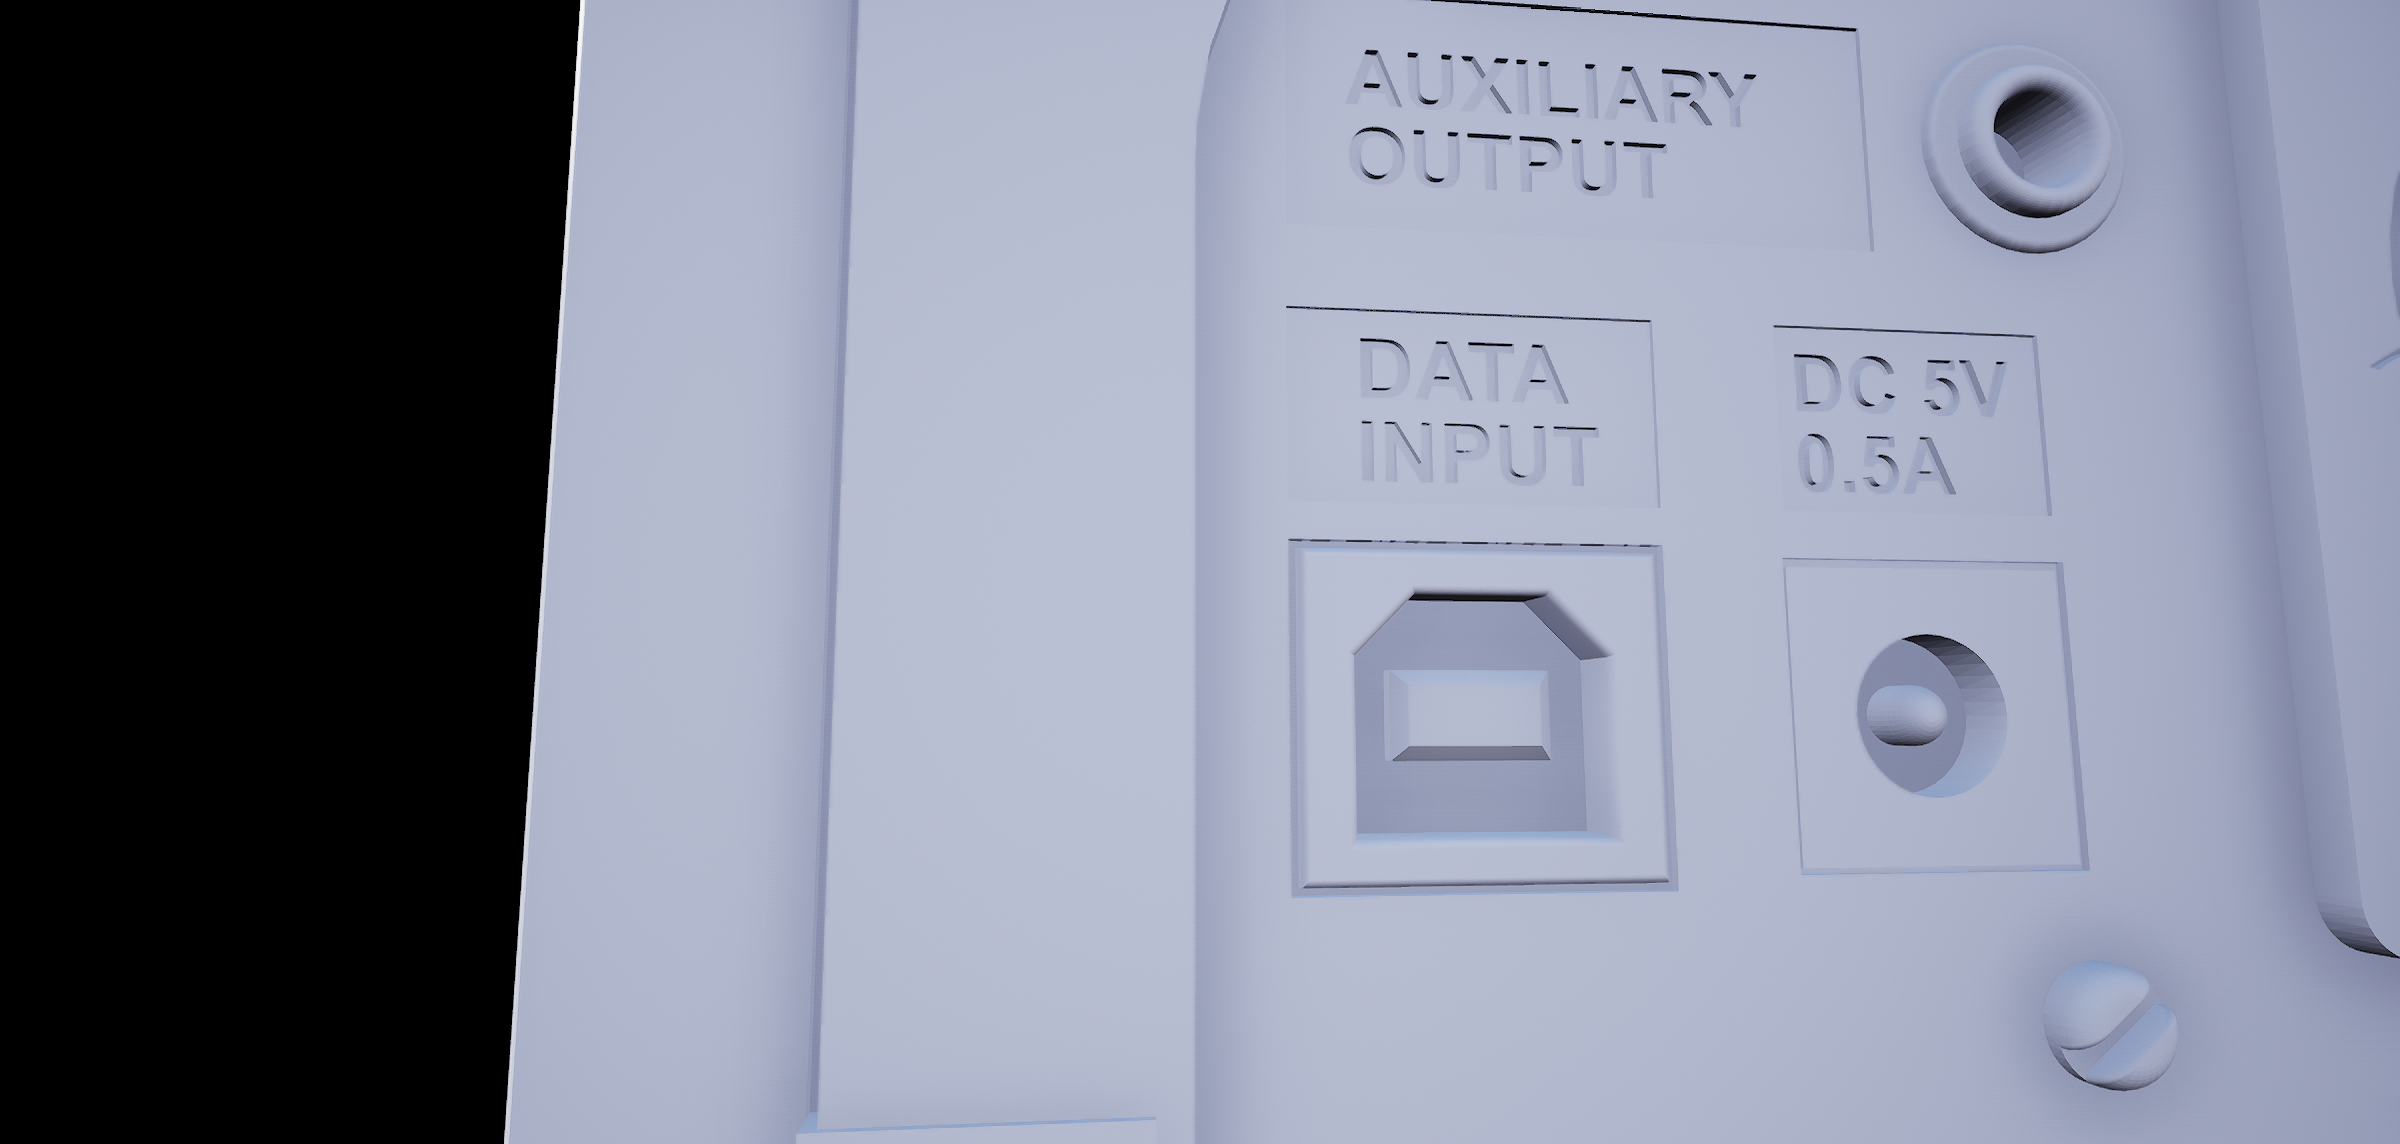aux: (1906, 31, 2151, 273)
dc: (1849, 619, 2020, 821)
usb: (1342, 570, 1642, 855)
